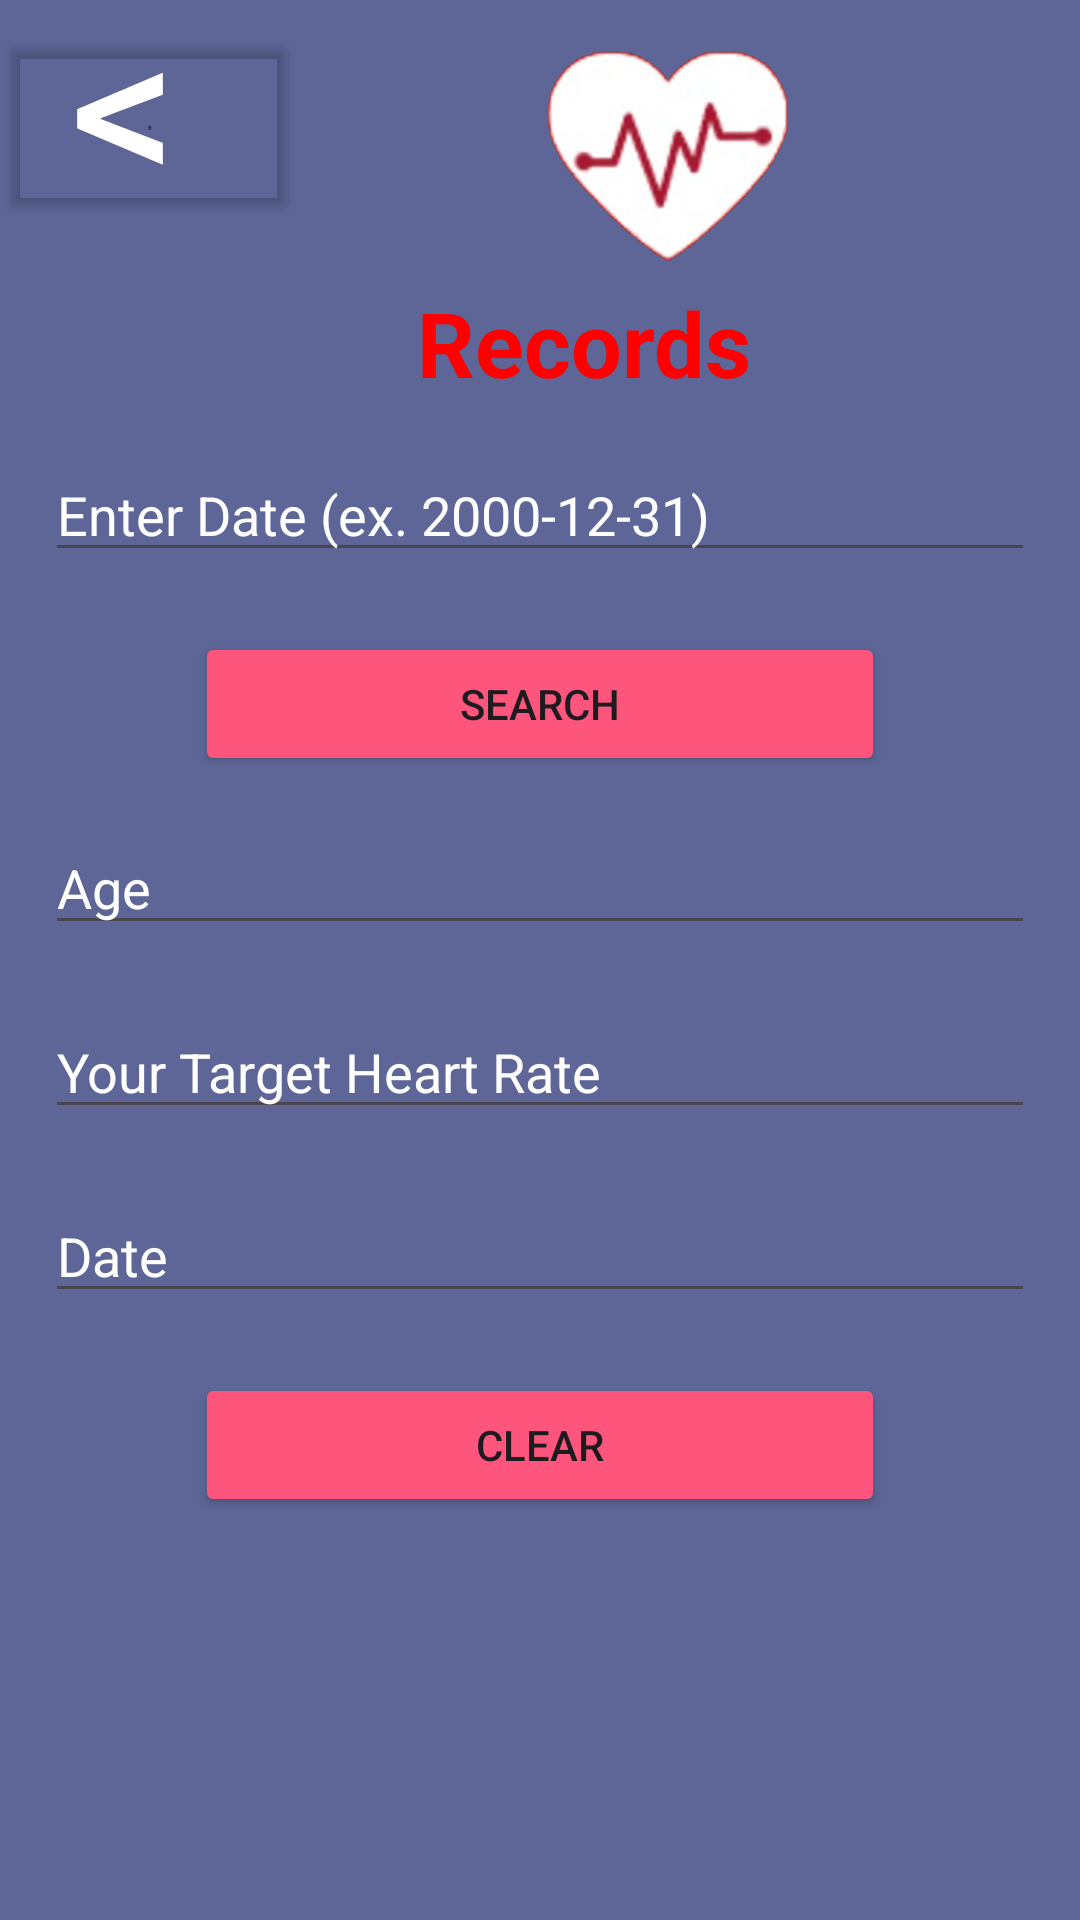

Point at icon controls on the screen. Image size 1080×1920, points as [x,y].
less than sign: [120,119]
